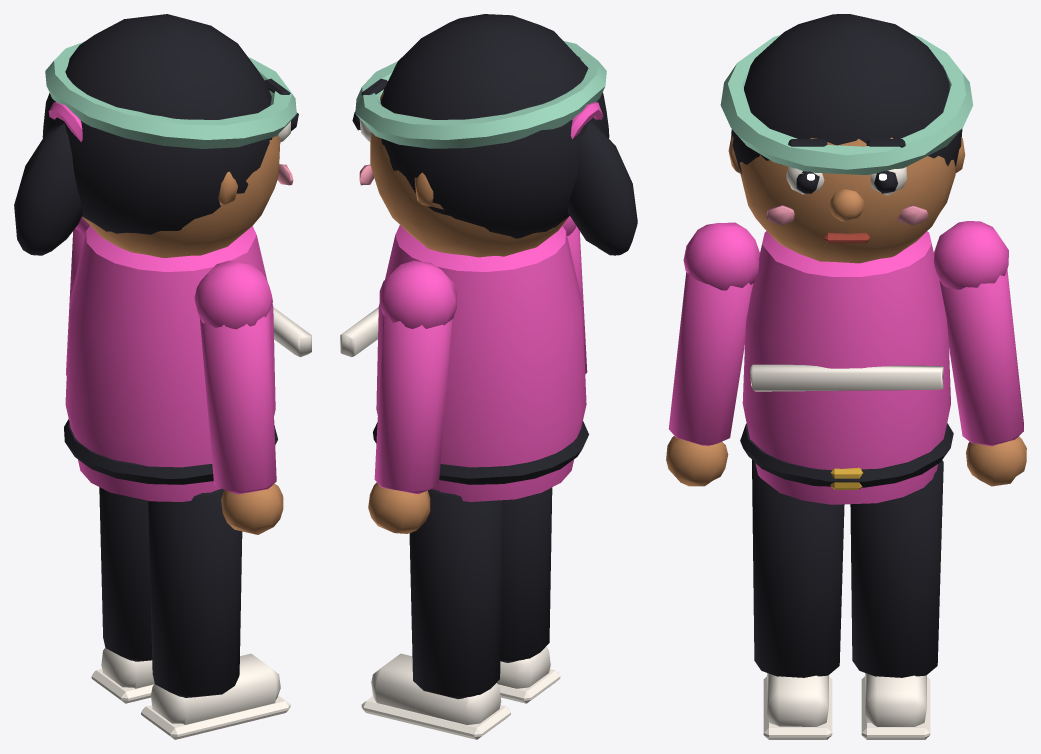
The model's file is ped_jogger.glb.
The picture shows the model from 3 angles, left to right: view 1: azimuth 30°, elevation 25°; view 2: azimuth 150°, elevation 25°; view 3: azimuth 270°, elevation 25°; orthographic projection.
Visible parts, largest first — view 1: ped_jogger; view 2: ped_jogger; view 3: ped_jogger.
Boxes of the visible parts, x1=… form: ped_jogger: x1=14, y1=14, x2=311, y2=739; ped_jogger: x1=340, y1=14, x2=637, y2=739; ped_jogger: x1=666, y1=14, x2=1026, y2=739.
Size of the model in its own units: 0.5647 by 1.39 by 0.6737.
1 material, 1 textured.
